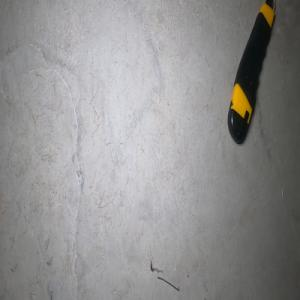Cutter: (226, 0, 275, 144)
